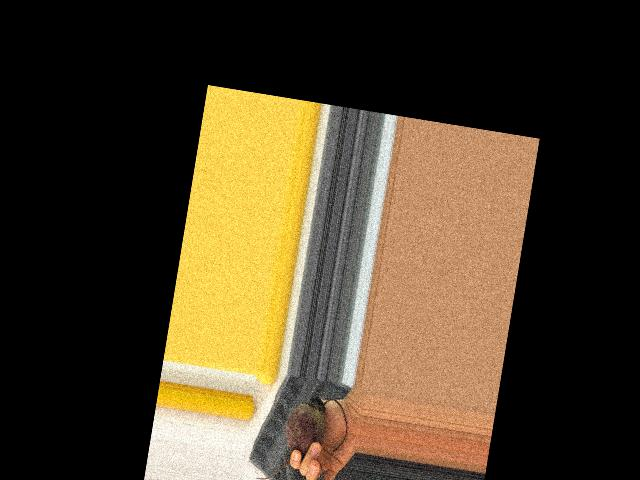beet: (256, 390, 352, 480)
